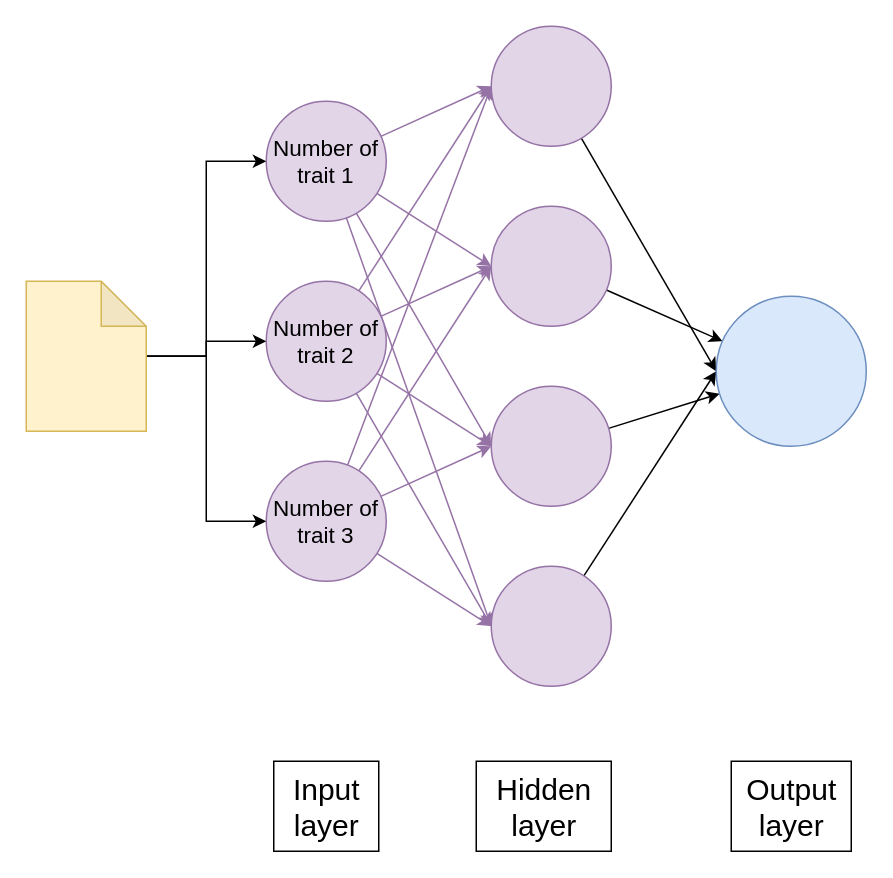
Image size: 893x878. Some labels were removed from this diagram. The box of each missing label's shape, as (x1, y1, x2, y2) in pixels:
Census data: (25, 280, 146, 431)
Number of EV: (715, 295, 866, 446)
